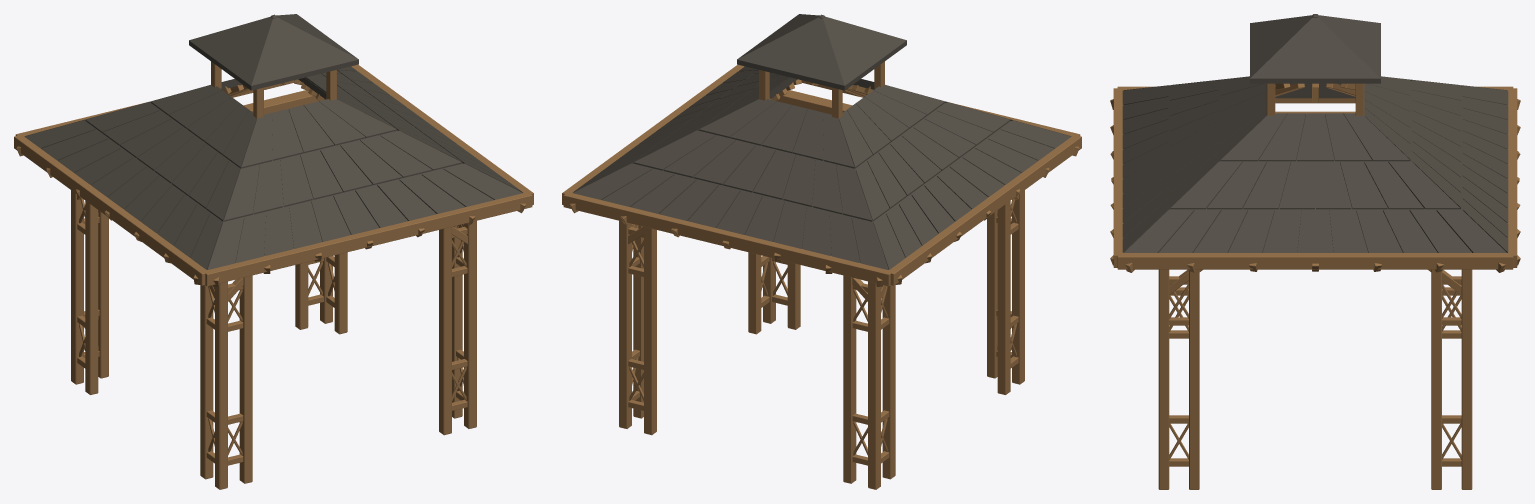
The model's file is A-NEW-20261026-GARDEN-GAZEBO-001_LOD2_R2.fbx.
The picture shows the model from 3 angles, left to right: view 1: azimuth 30°, elevation 25°; view 2: azimuth 150°, elevation 25°; view 3: azimuth 270°, elevation 25°; orthographic projection. The views are drawn at different scales.
Parts seen in each view (by area): view 1: deep eave fascia.002, small cupola hip.002, deep eave fascia.001, small cupola hip.001, corner support post.001, corner support post.007, corner support post, corner support post.005, corner support post.006, corner support post.002, corner support post.003, corner support post.004 (+56 smaller); view 2: deep eave fascia, small cupola hip, deep eave fascia.001, small cupola hip.001, corner support post.004, corner support post.010, corner support post.003, corner support post.002, corner support post.009, corner support post.005, corner support post, corner support post.001 (+56 smaller); view 3: deep eave fascia.003, small cupola hip.003, corner support post.006, corner support post.009, corner support post.008, corner support post.011, small cupola hip, small cupola hip.002, deep eave fascia, deep eave fascia.002, individual shingle.083, individual shingle.090 (+75 smaller).
Part boxes in pixels (left/top/right/bottom): deep eave fascia.002: left=205, top=192, right=532, bottom=286; small cupola hip.002: left=251, top=17, right=358, bottom=90; deep eave fascia.001: left=14, top=135, right=209, bottom=285; small cupola hip.001: left=189, top=16, right=272, bottom=90; corner support post.001: left=239, top=275, right=252, bottom=483; corner support post.007: left=439, top=227, right=451, bottom=435; corner support post: left=215, top=281, right=227, bottom=489; corner support post.005: left=85, top=201, right=98, bottom=394; corner support post.006: left=464, top=220, right=476, bottom=428; corner support post.002: left=200, top=285, right=213, bottom=479; corner support post.003: left=71, top=190, right=83, bottom=384; corner support post.004: left=98, top=210, right=108, bottom=378; deep eave fascia: left=563, top=193, right=892, bottom=286; small cupola hip: left=737, top=17, right=844, bottom=90; deep eave fascia.001: left=889, top=134, right=1081, bottom=285; small cupola hip.001: left=823, top=16, right=906, bottom=90; corner support post.004: left=843, top=275, right=856, bottom=483; corner support post.010: left=644, top=227, right=656, bottom=435; corner support post.003: left=868, top=281, right=880, bottom=489; corner support post.002: left=997, top=201, right=1010, bottom=394; corner support post.009: left=619, top=220, right=631, bottom=428; corner support post.005: left=882, top=285, right=895, bottom=479; corner support post: left=1012, top=190, right=1024, bottom=384; corner support post.001: left=987, top=210, right=997, bottom=378; deep eave fascia.003: left=1117, top=253, right=1513, bottom=269; small cupola hip.003: left=1250, top=17, right=1380, bottom=83; corner support post.006: left=1158, top=269, right=1169, bottom=489; corner support post.009: left=1461, top=269, right=1472, bottom=489; corner support post.008: left=1189, top=269, right=1199, bottom=489; corner support post.011: left=1431, top=269, right=1441, bottom=489; small cupola hip: left=1318, top=15, right=1380, bottom=77; small cupola hip.002: left=1250, top=15, right=1312, bottom=77; deep eave fascia: left=1507, top=88, right=1517, bottom=267; deep eave fascia.002: left=1113, top=88, right=1123, bottom=267; individual shingle.083: left=1388, top=161, right=1460, bottom=209; individual shingle.090: left=1170, top=161, right=1242, bottom=209.
Size of the model in its own units: 407 by 448 by 407.
